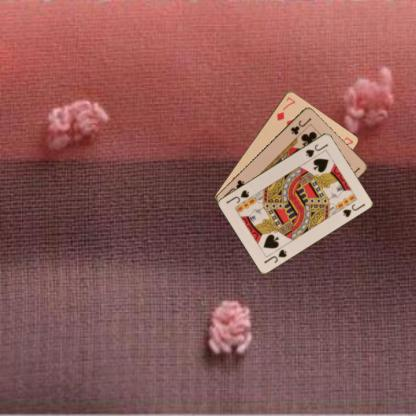7d: (274, 94, 296, 122)
Jc: (288, 115, 312, 136)
Js: (261, 246, 288, 265), (303, 141, 329, 158)
